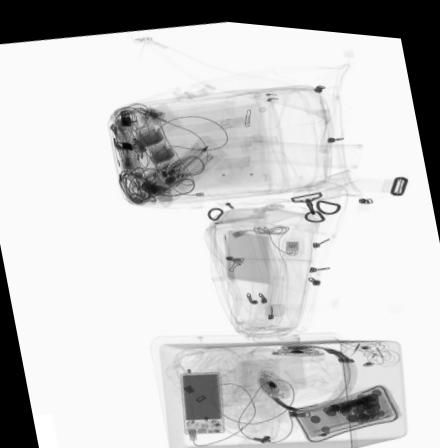Powerbank: (179, 365, 223, 430)
